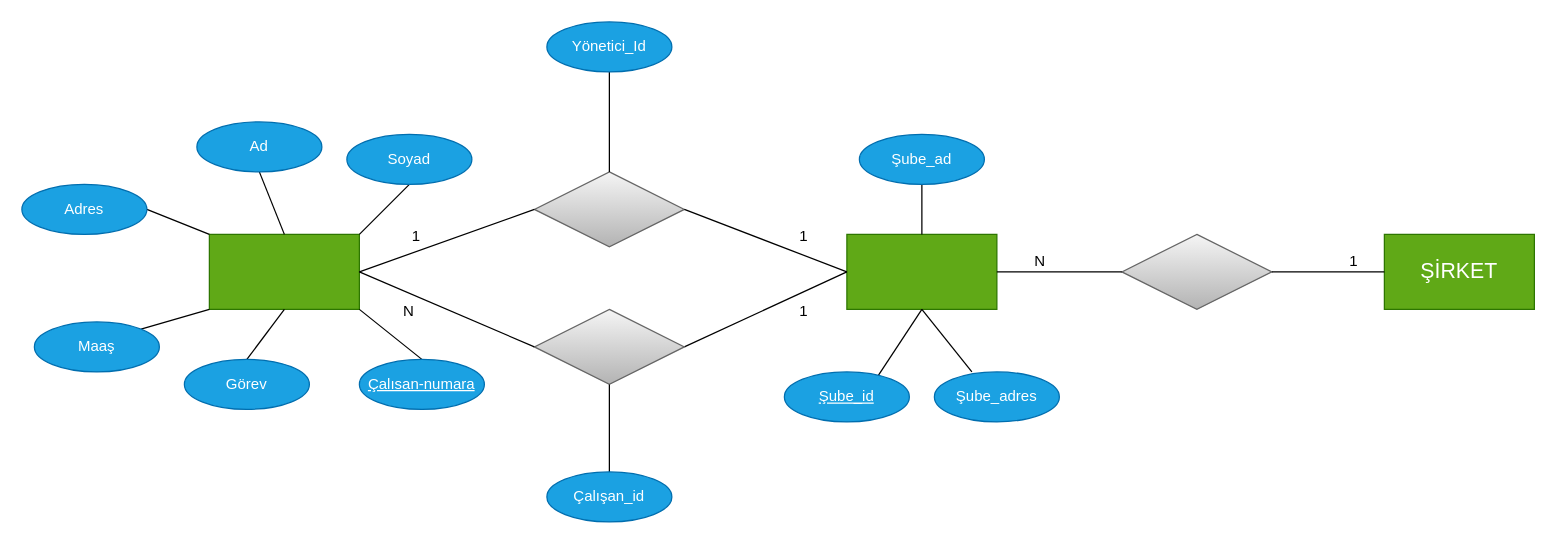
This 1556x544 diagram has some shape labels left out. Here are the shapes that lost their labels. From the top down, the centre of each, then its label:
At (x=608, y=209): "Yönetir".
At (x=283, y=271): "ÇALIŞAN".
At (x=921, y=271): "ŞUBE".
At (x=1196, y=271): "Sahip Olma".
At (x=608, y=346): "Çalışır".
